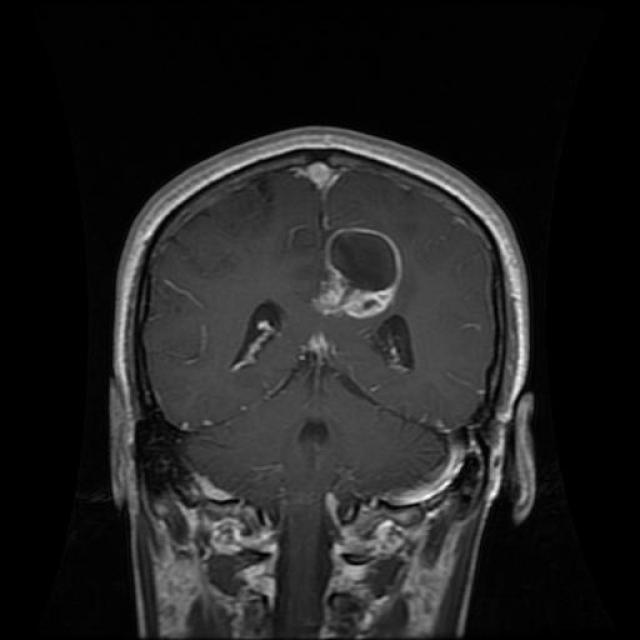glioma: (311, 221, 409, 324)
